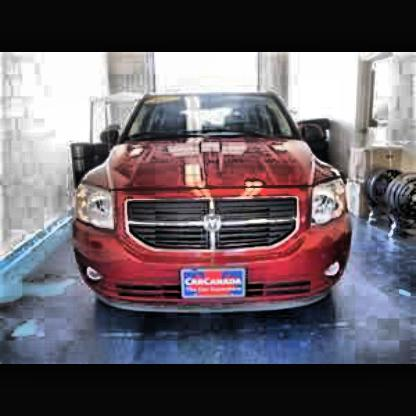Dodge Caliber Wagon 2007: (72, 87, 357, 322)
